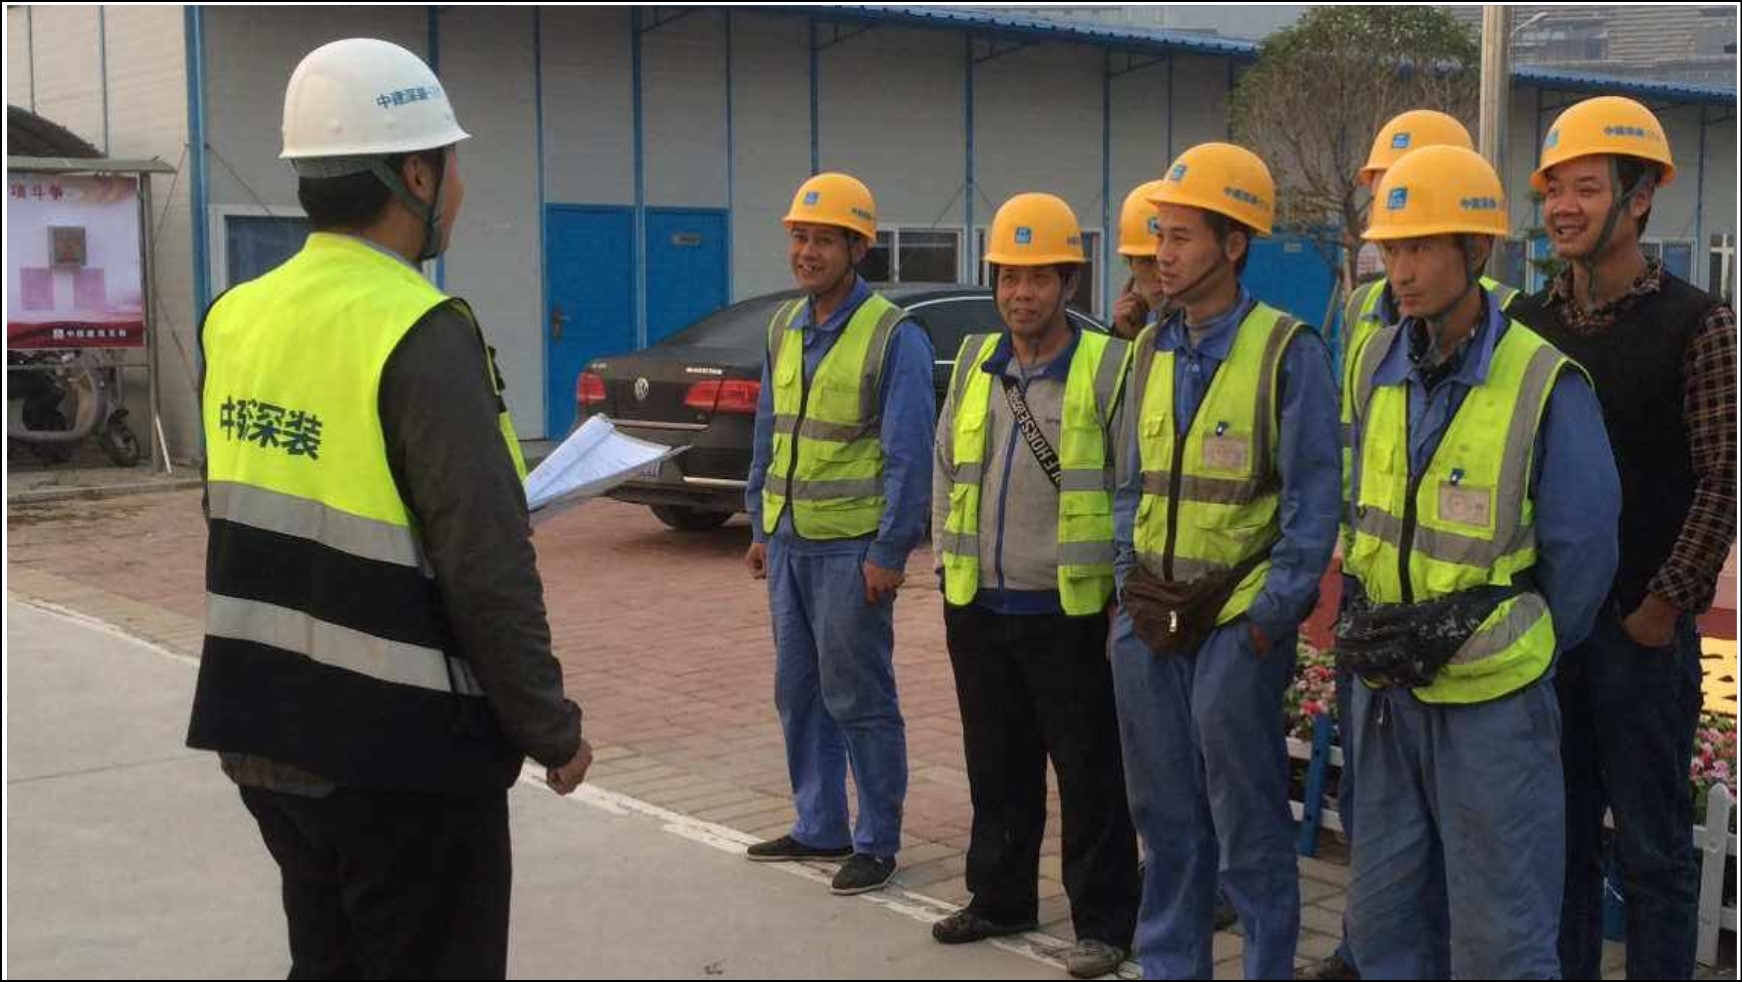ordinary_clothes: (1512, 261, 1737, 605)
person: (172, 38, 596, 982), (1336, 140, 1625, 982), (1508, 84, 1735, 982), (1107, 136, 1341, 982), (925, 187, 1140, 977), (737, 165, 934, 897)
reflective_vest: (175, 229, 537, 781), (1337, 318, 1570, 709), (1125, 299, 1308, 623), (939, 330, 1136, 620), (759, 292, 919, 541)
safety_helmet: (277, 34, 471, 259), (1358, 141, 1515, 324), (1525, 90, 1678, 257), (1142, 137, 1279, 300), (979, 189, 1090, 339), (779, 167, 881, 294), (1353, 105, 1482, 183), (1114, 175, 1167, 313)
